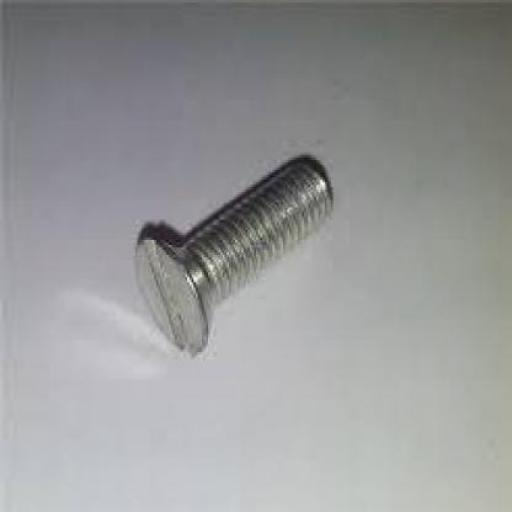bolt: (136, 155, 332, 357)
